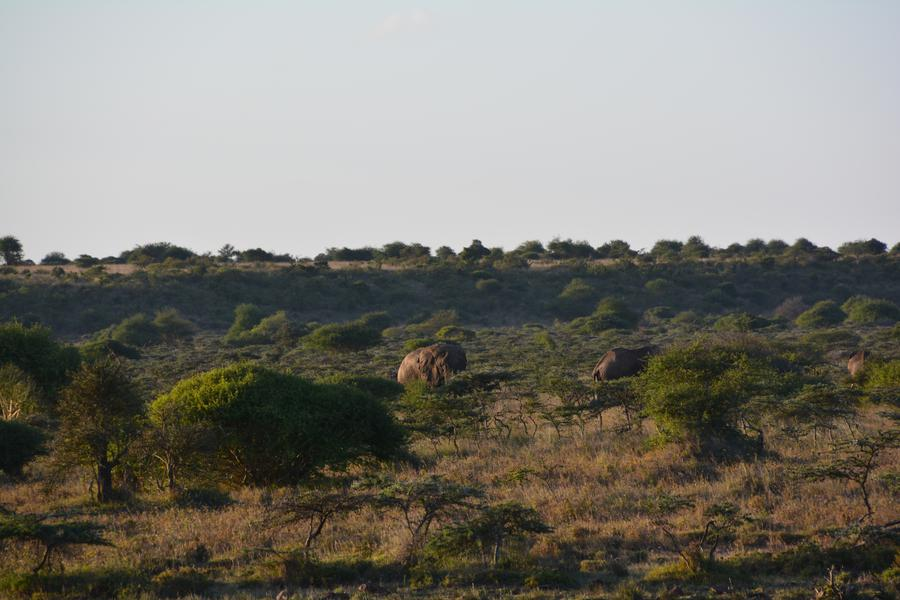elephant: (393, 339, 470, 386), (593, 345, 667, 384), (851, 351, 871, 372)
